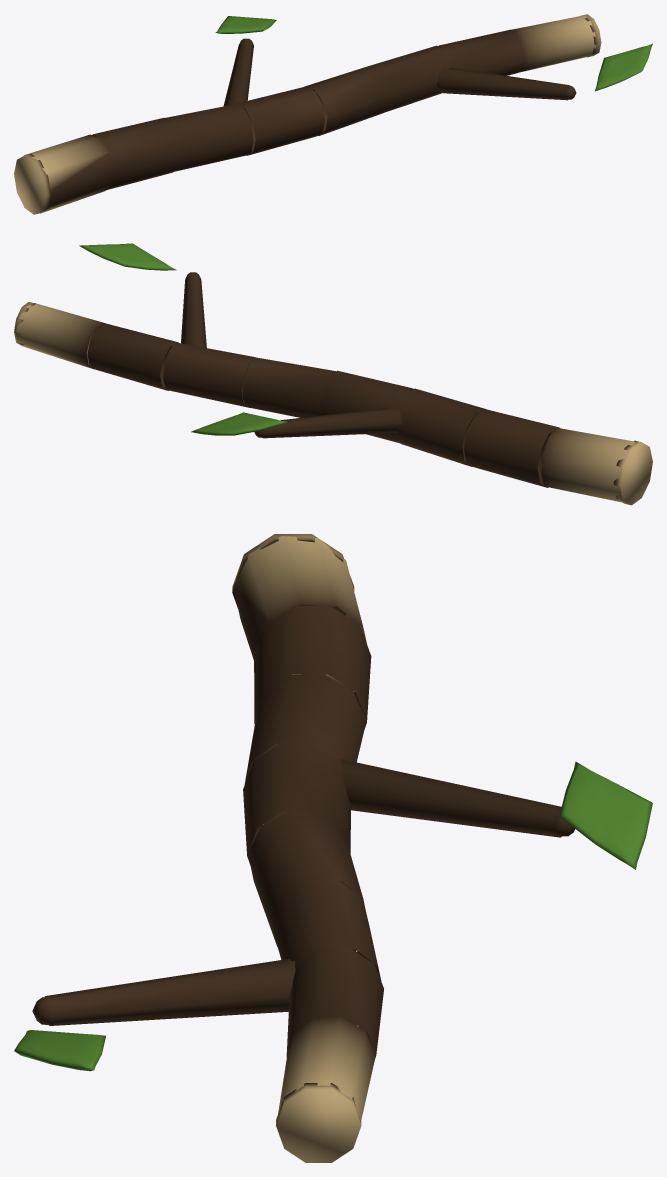
The model's file is Twig.glb.
3 renders of one model, top to bottom at view 1: azimuth 30°, elevation 25°; view 2: azimuth 150°, elevation 25°; view 3: azimuth 270°, elevation 25°, orthographic. The views are drawn at different scales.
Visible parts, largest first — view 1: TwigBark, TwigLeaves; view 2: TwigBark, TwigLeaves; view 3: TwigBark, TwigLeaves.
Part boxes in pixels (bbox=[...]): TwigBark: bbox=[14, 14, 601, 214]; TwigLeaves: bbox=[215, 16, 652, 91]; TwigBark: bbox=[14, 272, 652, 505]; TwigLeaves: bbox=[79, 243, 287, 435]; TwigBark: bbox=[32, 534, 574, 1162]; TwigLeaves: bbox=[14, 761, 652, 1071].
Size of the model in its own units: 0.3477 by 0.0379 by 0.1679.
